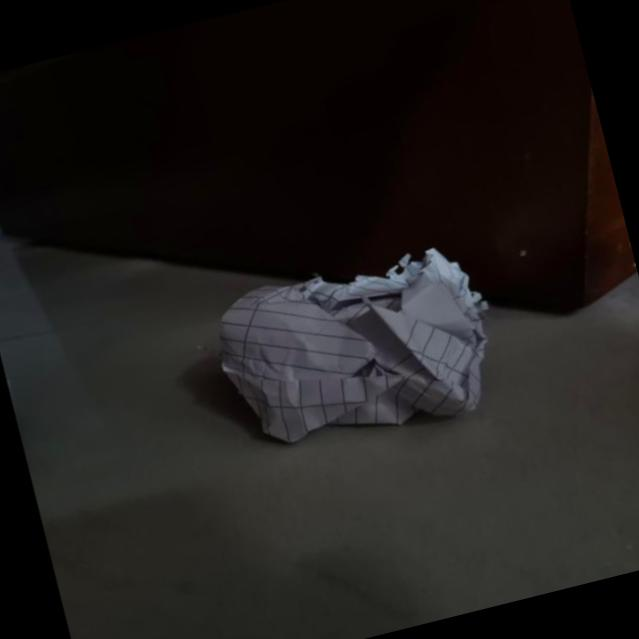cardboard paper: (220, 247, 486, 439)
